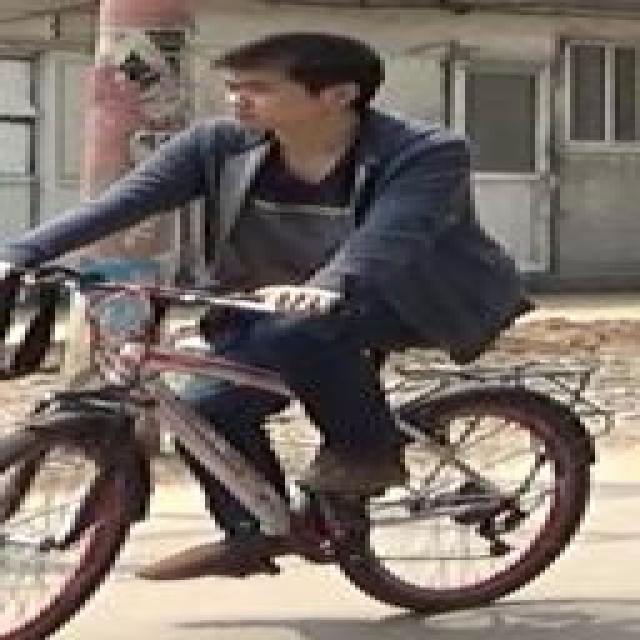adult: (87, 28, 537, 584)
